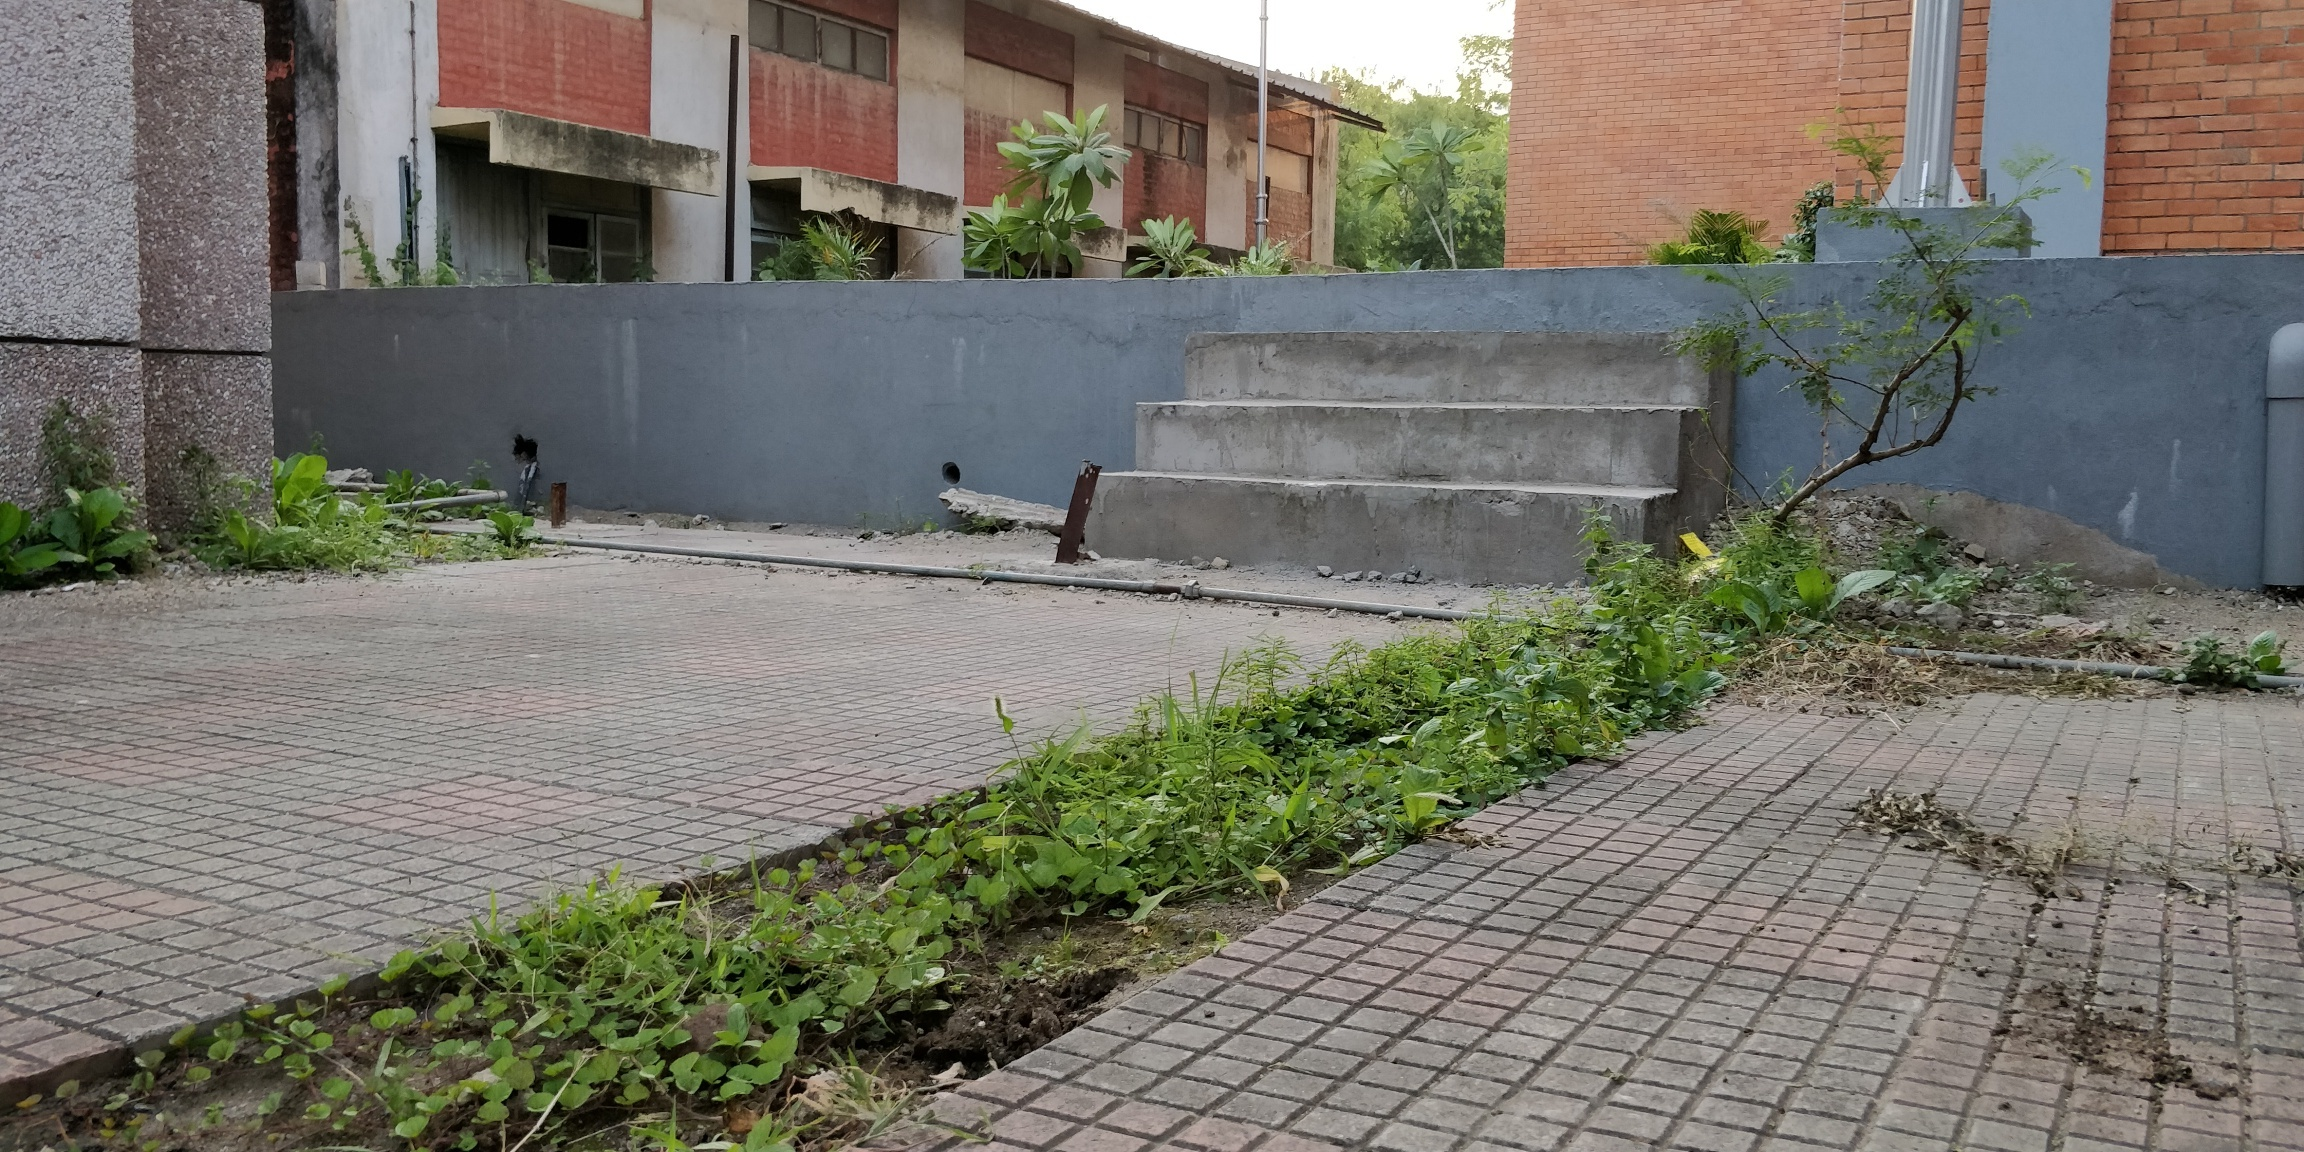stairs_up: (1086, 323, 1735, 585)
